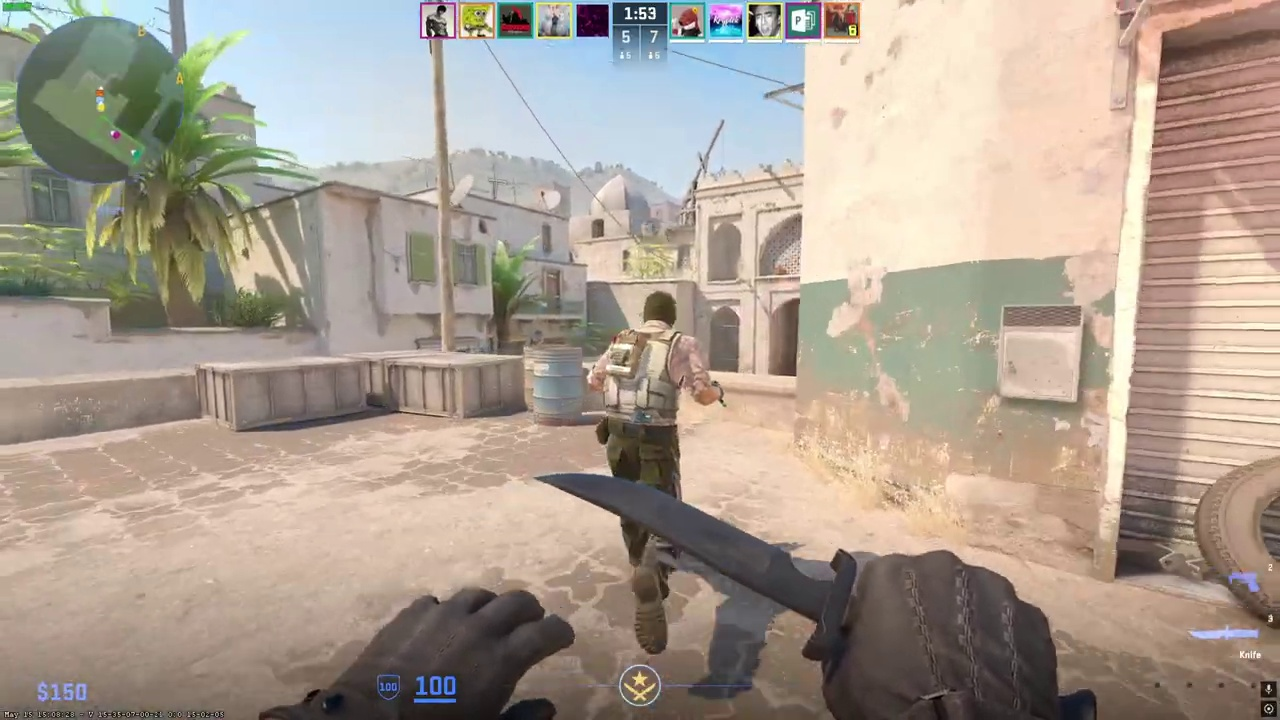Terrorist: (588, 291, 713, 652)
